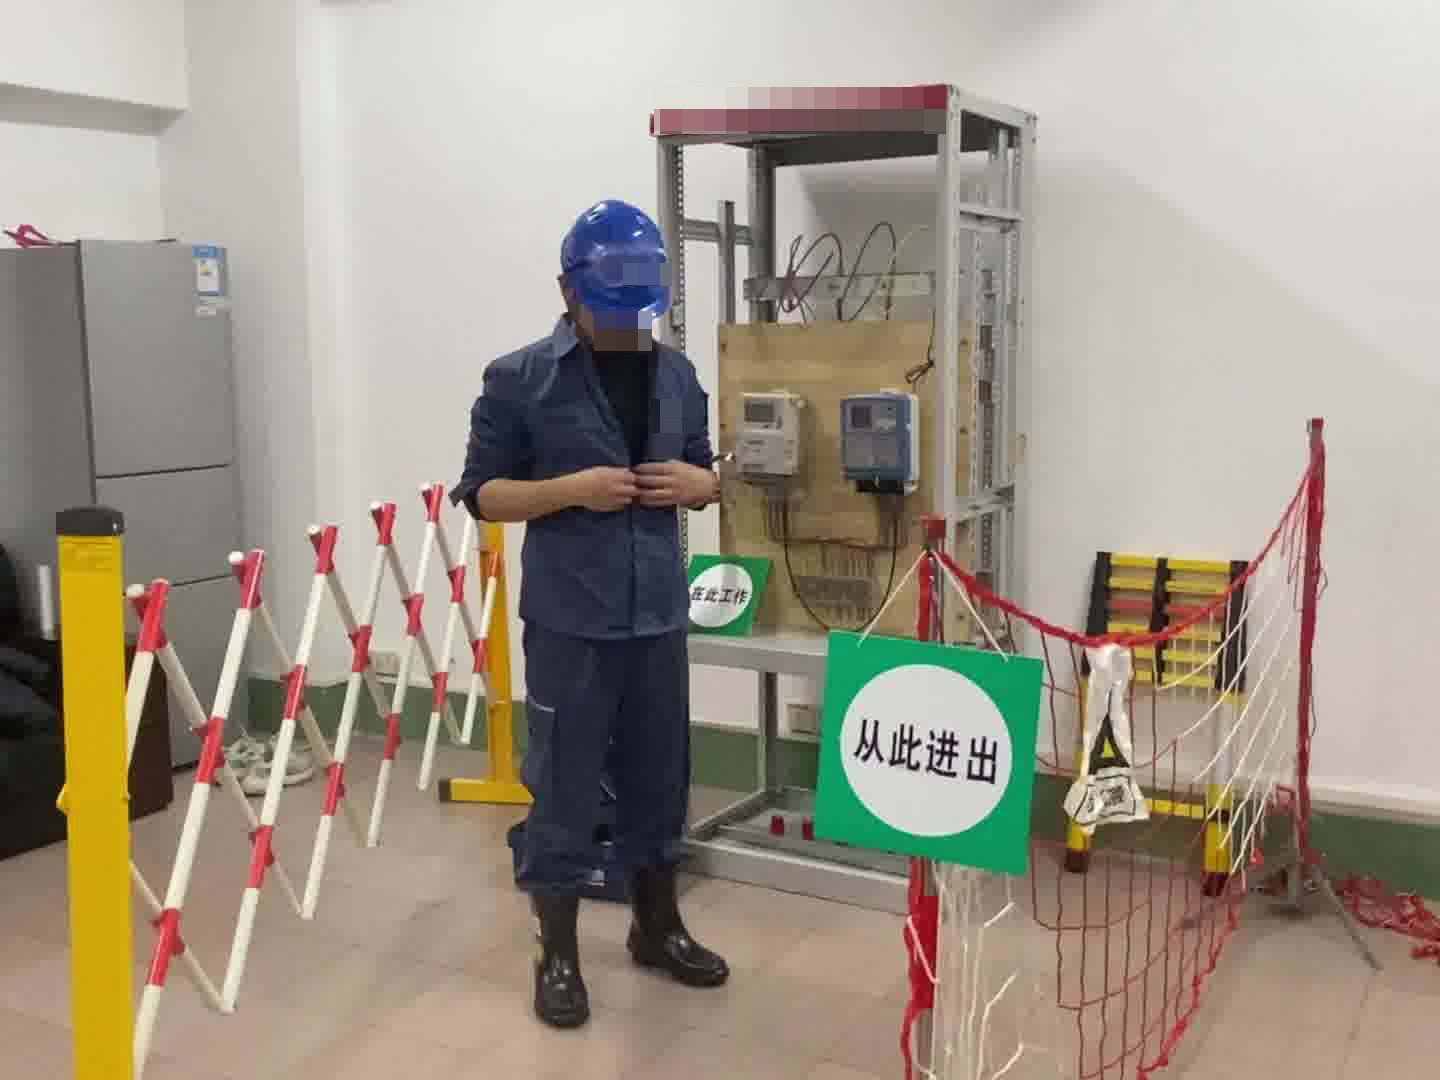downsuit: (511, 640, 692, 912)
halt: (556, 200, 673, 340)
hand: (647, 453, 703, 506), (579, 462, 632, 510)
intosign: (811, 630, 1045, 879)
person: (449, 193, 735, 1035)
shoe: (522, 867, 603, 1027), (630, 871, 729, 988)
upsuit: (458, 320, 717, 637)
worksign: (694, 553, 775, 635)
wrongsuit: (581, 355, 666, 454)
wrongtop: (459, 449, 638, 526)
